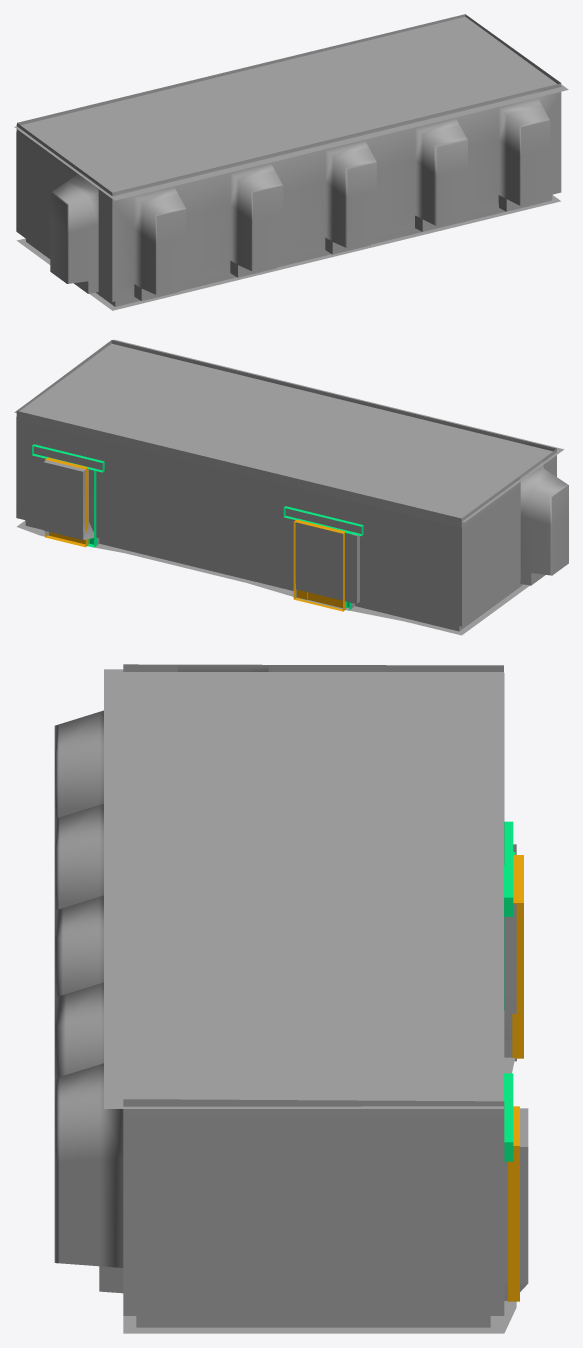
File: MainGuard_TopFloo.fbx
The picture shows the model from 3 angles, top to bottom: view 1: azimuth 30°, elevation 25°; view 2: azimuth 150°, elevation 25°; view 3: azimuth 270°, elevation 25°; orthographic projection. The views are drawn at different scales.
Visible parts, largest first — view 1: FloorPlan2, pPlane2; view 2: FloorPlan2, pPlane2, polySurface26, polySurface29, polySurface27; view 3: pPlane2, FloorPlan2, polySurface29, polySurface26, polySurface27, polySurface30.
Boxes of the visible parts, x1,y1,x2,y2 form: FloorPlan2: (16,14,561,310); pPlane2: (14,17,568,200); FloorPlan2: (16,340,568,635); pPlane2: (14,339,563,522); polySurface26: (293,519,345,611); polySurface29: (45,457,88,547); polySurface27: (283,506,363,536); pPlane2: (104,669,503,1108); FloorPlan2: (54,664,528,1333); polySurface29: (508,1106,519,1301); polySurface26: (512,855,523,1058); polySurface27: (504,821,513,916); polySurface30: (504,1073,513,1161).
Size of the model in its own units: 19.91 by 4.78 by 8.56.
